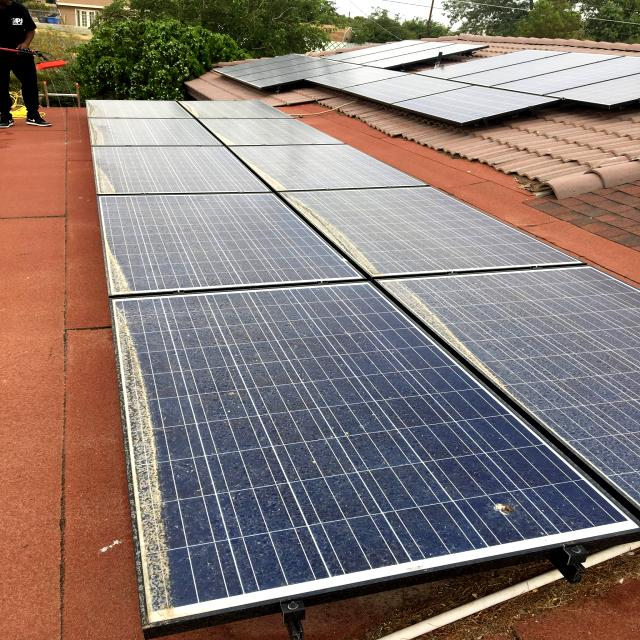bird: (474, 486, 536, 530)
dust: (192, 438, 430, 550), (156, 319, 418, 408), (105, 198, 259, 296), (486, 298, 627, 392), (134, 326, 158, 622)
